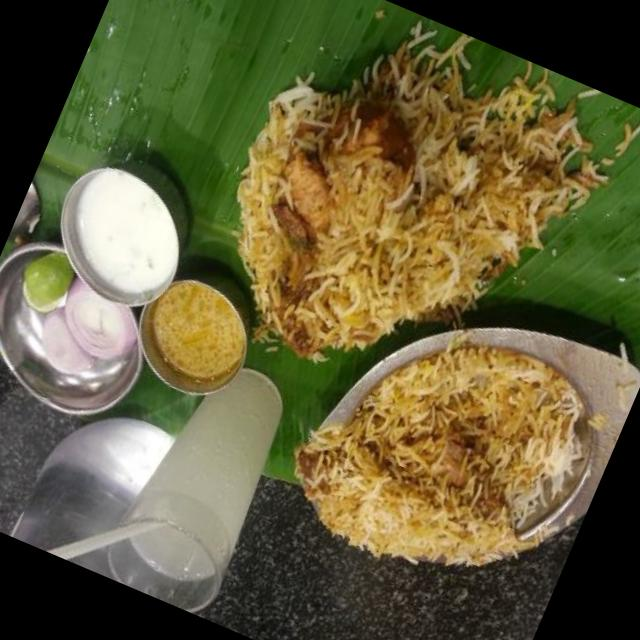Biryani: (115, 0, 640, 617)
